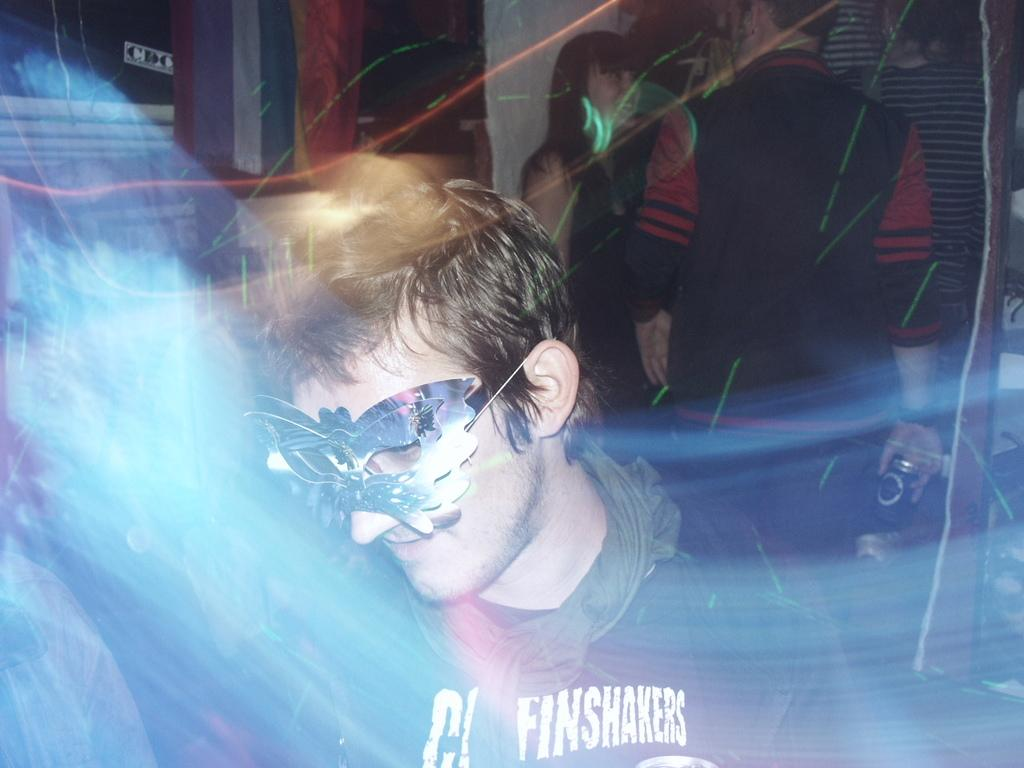Sem Máscara: (286, 338, 507, 598), (584, 68, 639, 128), (725, 0, 741, 69)
